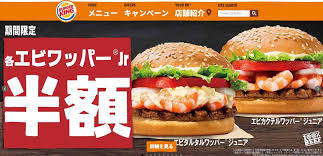hamburger: (123, 39, 239, 138), (219, 24, 323, 115)
